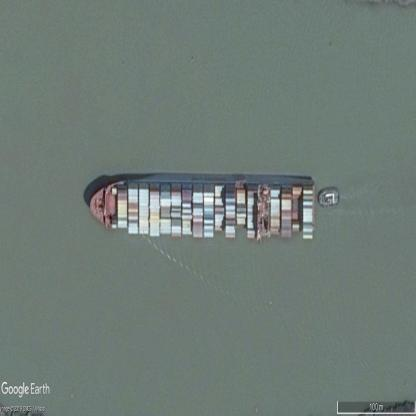ship: (90, 177, 315, 240), (318, 185, 339, 207)
